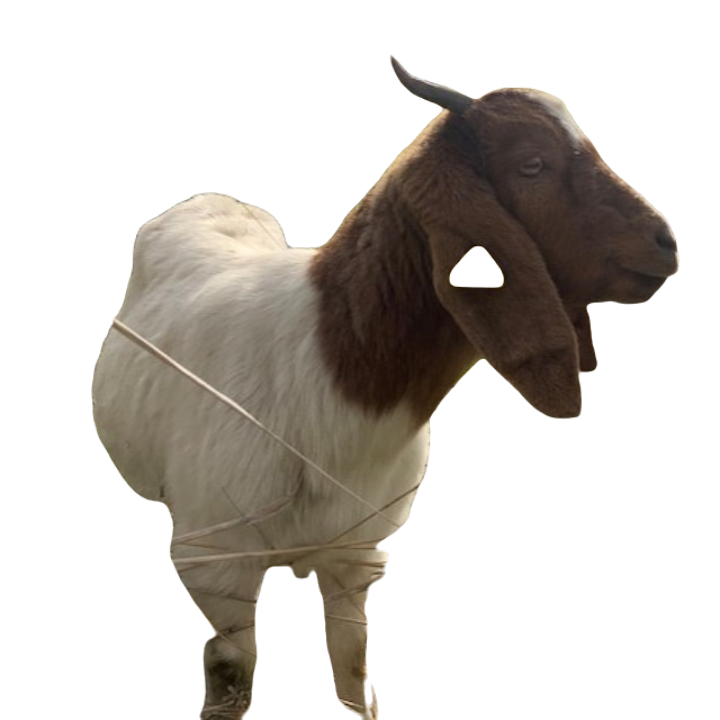Goat: (90, 52, 679, 719)
